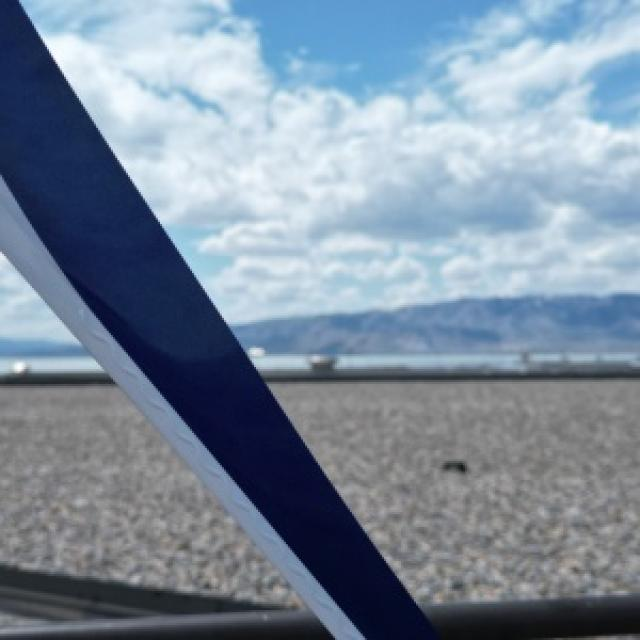healthy: (0, 0, 435, 638)
